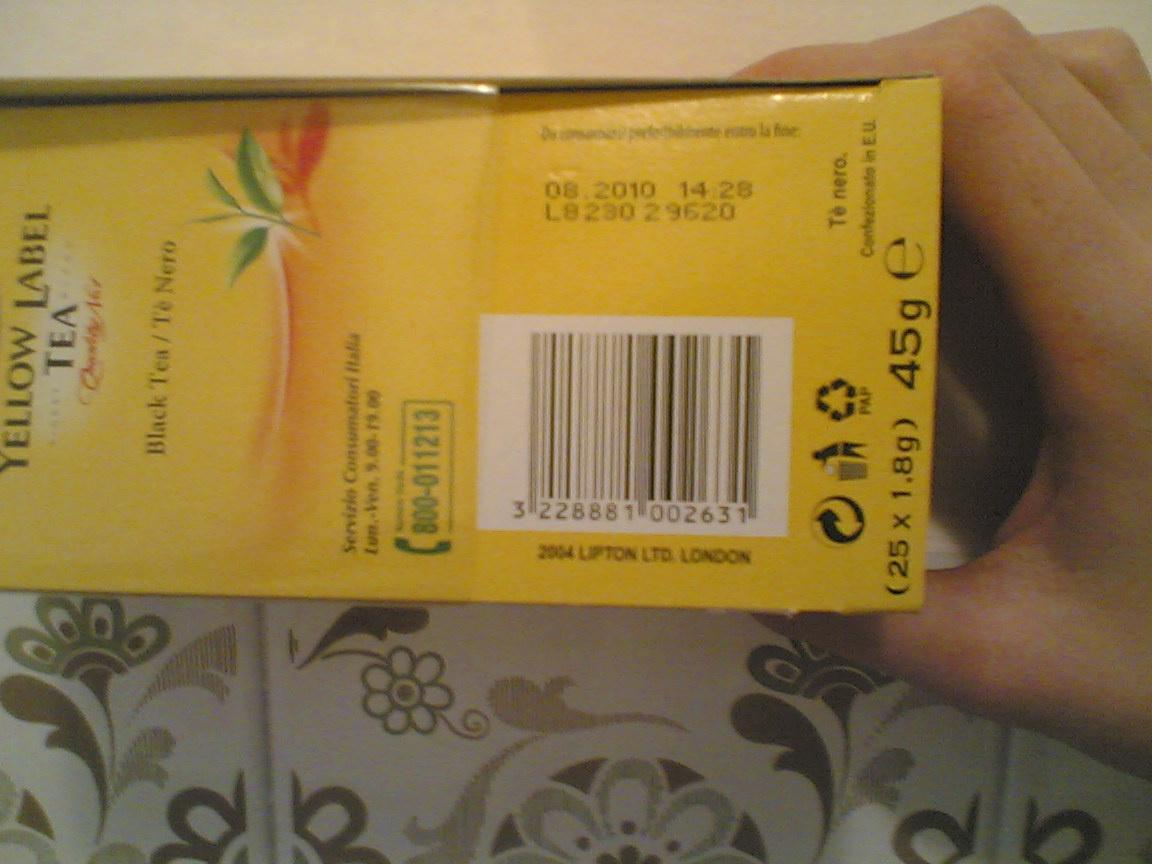Barcode: (476, 312, 789, 538)
